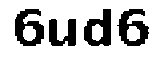6: (11, 3, 46, 49), (117, 7, 150, 51)
d: (81, 6, 116, 51)
u: (47, 12, 80, 51)
